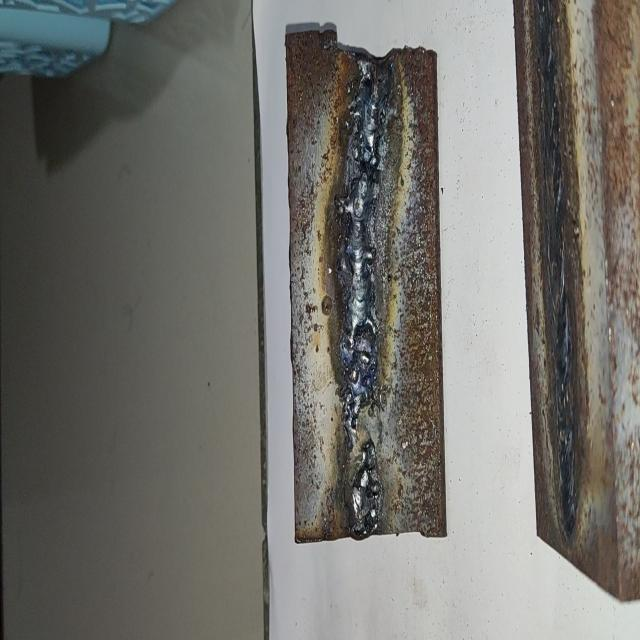Defect: (341, 60, 383, 185), (342, 385, 387, 474)
Welding Line: (346, 65, 382, 536)
Workpiece: (284, 36, 448, 544)
